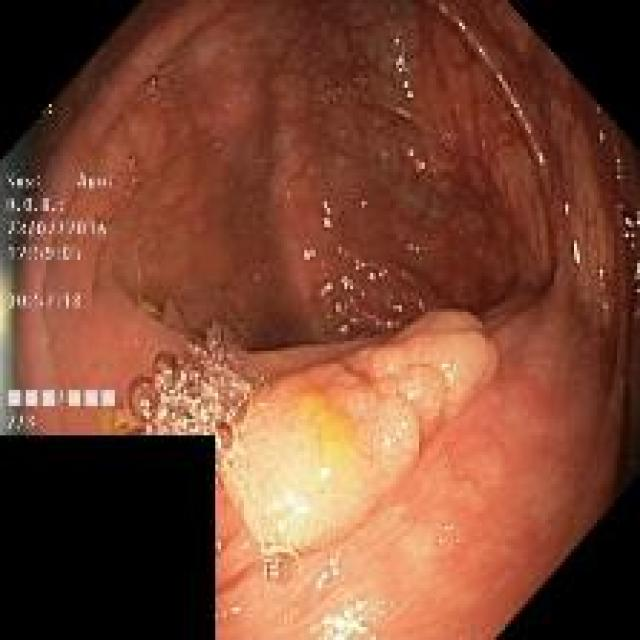Polyps: (221, 313, 500, 562)
